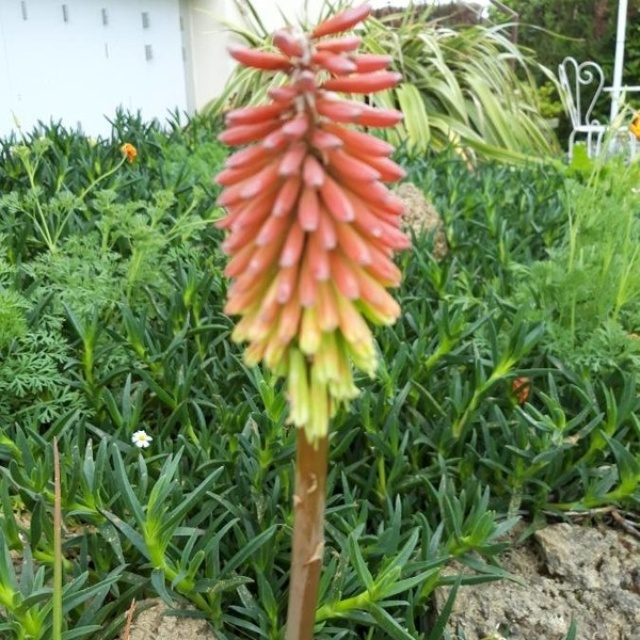obstacle: (213, 26, 430, 606), (5, 138, 197, 562), (444, 149, 623, 535)
